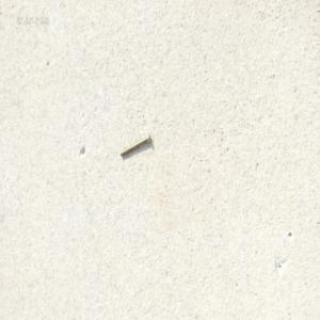Bolttrack_idkeyframe: (119, 132, 150, 156)
